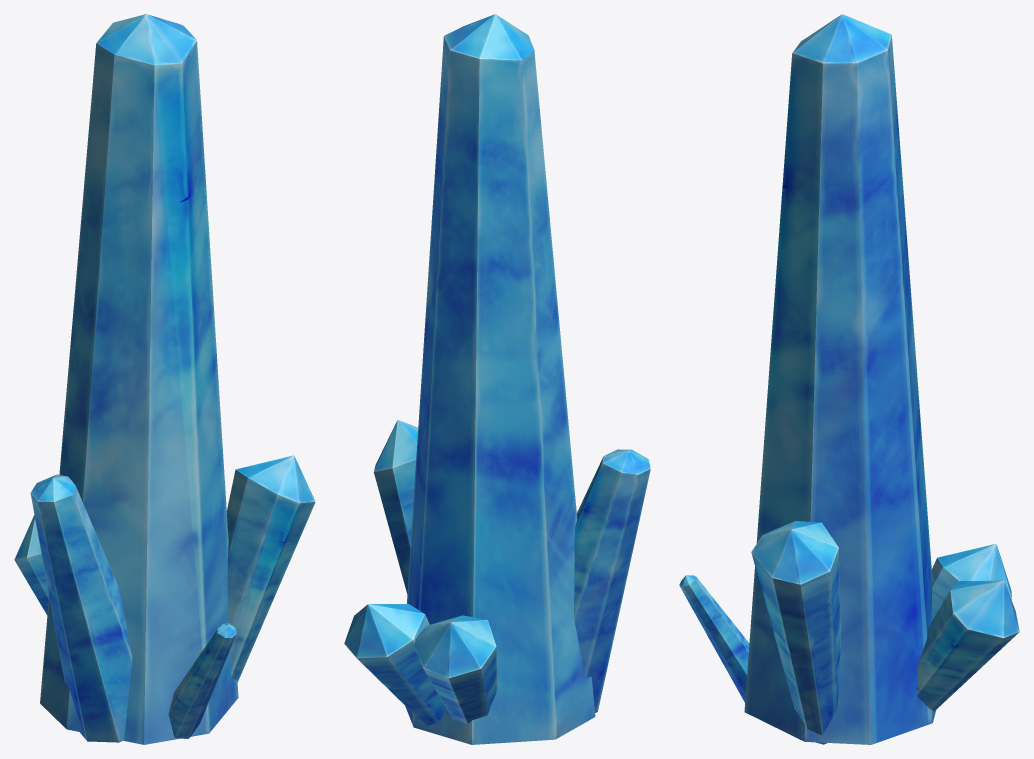
Rendered from crystal formations for jumping puzzle2.fbx.
3 renders of one model, left to right at view 1: azimuth 30°, elevation 25°; view 2: azimuth 150°, elevation 25°; view 3: azimuth 270°, elevation 25°, orthographic.
Visible parts, largest first — view 1: Cube.003, Cube.001; view 2: Cube.003, Cube.001; view 3: Cube.003, Cube.001.
Part boxes in pixels (box(x1,y1,x2,y2)): Cube.003: box(40, 14, 238, 744); Cube.001: box(14, 455, 315, 742); Cube.003: box(405, 14, 595, 744); Cube.001: box(344, 420, 650, 725); Cube.003: box(744, 14, 936, 744); Cube.001: box(679, 521, 1019, 744).
Size of the model in its own units: 837 by 2039 by 902.
